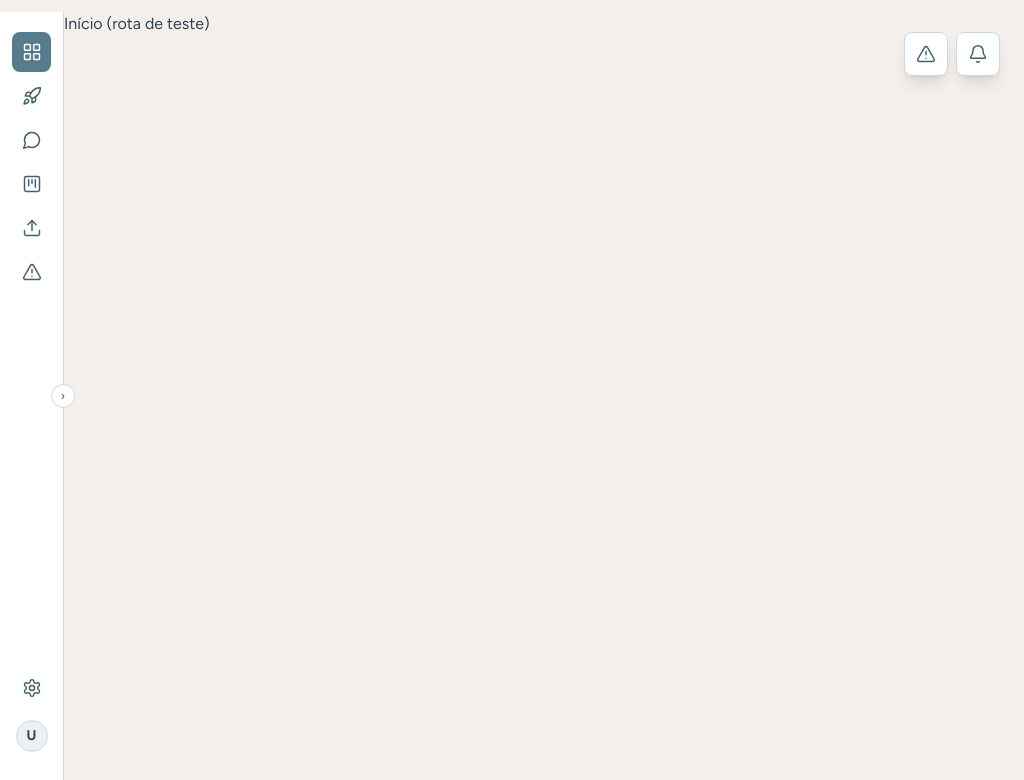
Test: ControleLigacoesShell - flyout de Configurações › clicar fora do flyout aberto fecha o menu
This screenshot has width=1024, height=780.
What coordinates should you click on to do the following:
click the button named "configurações"
I would click on:
 (32, 688)
Its box is [12,668,51,708].
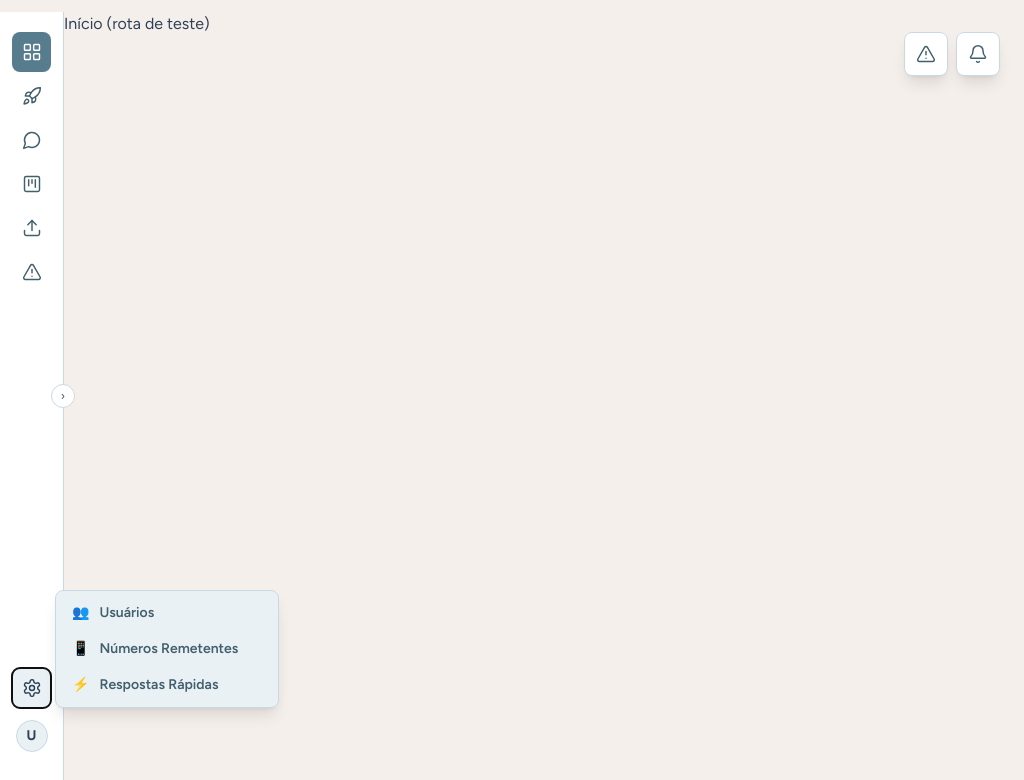
expect the link "👥 Usuários" is shown: met, box [72,604,154,621]
What coordinates should you click on to do the following:
click the element that starts with "Usuários"
I would click on:
 (512, 396)
Its box is [0,12,1023,779].
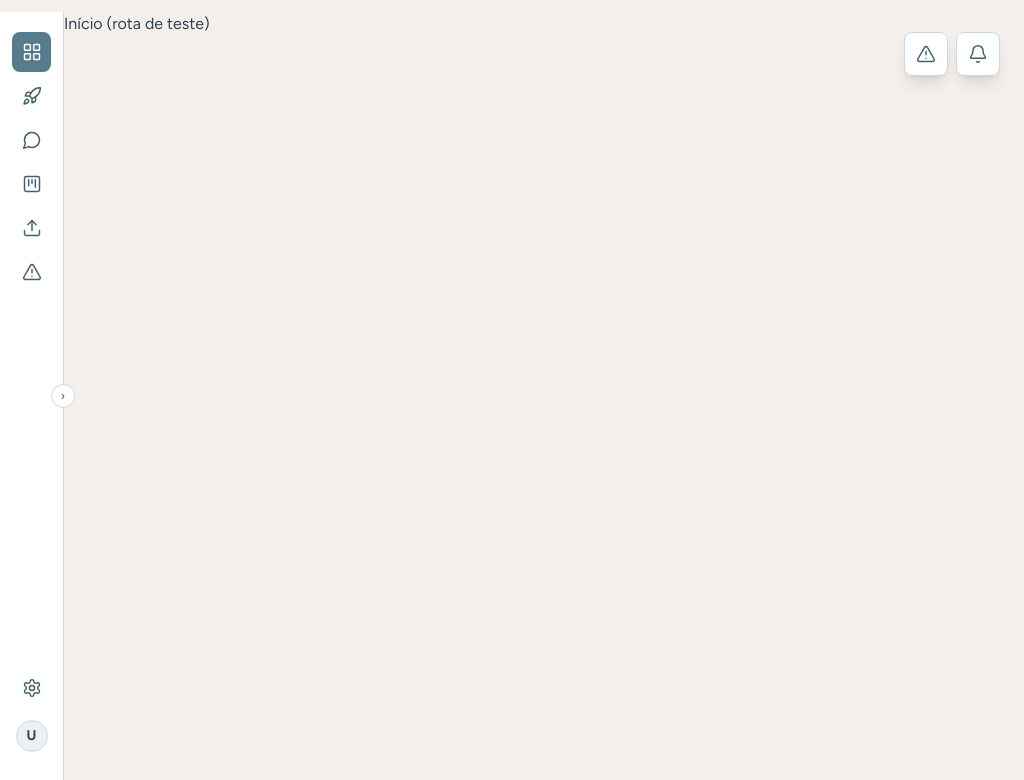
expect the link "Usuários" is gone: met
